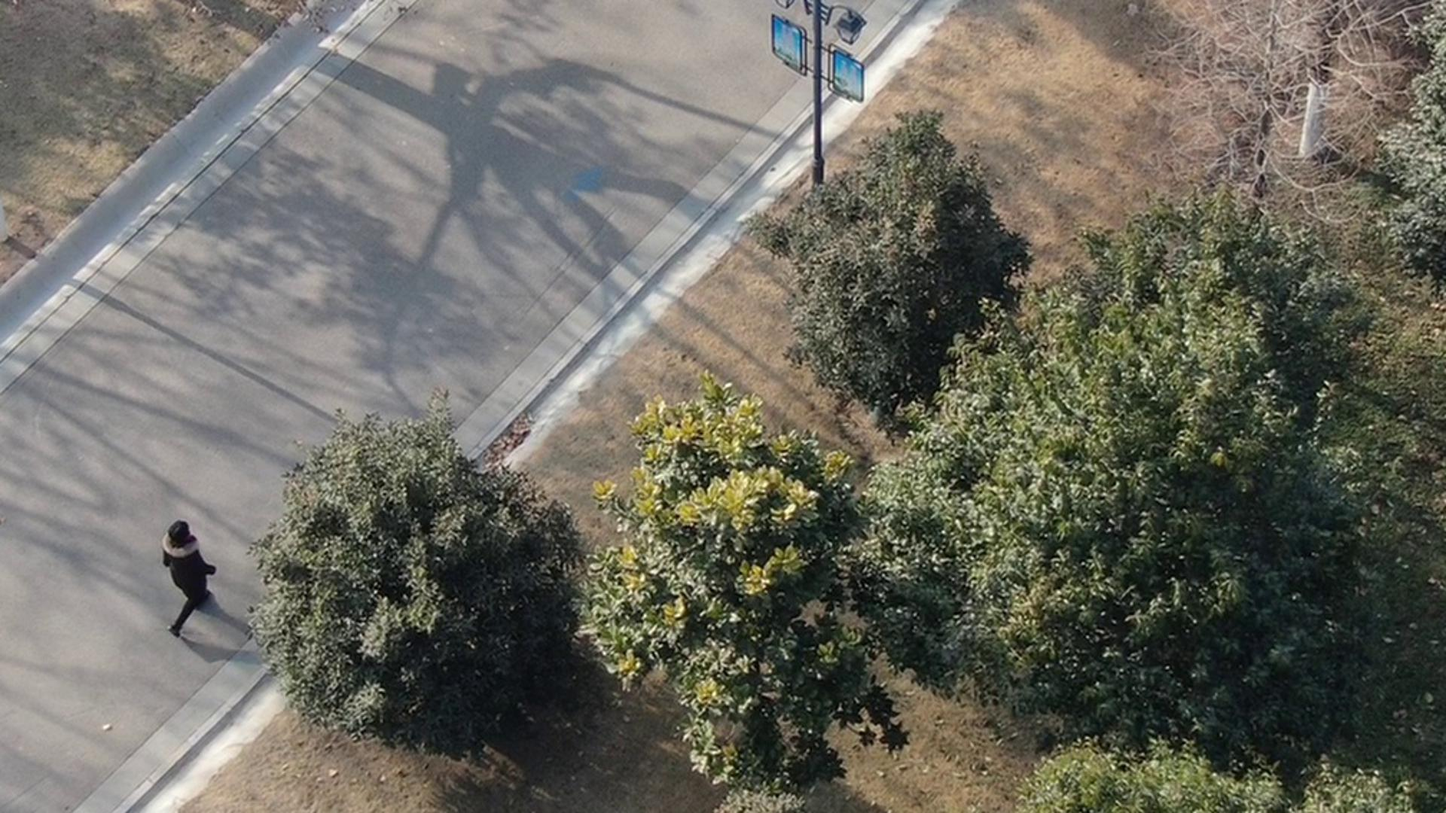human: (155, 517, 229, 646)
